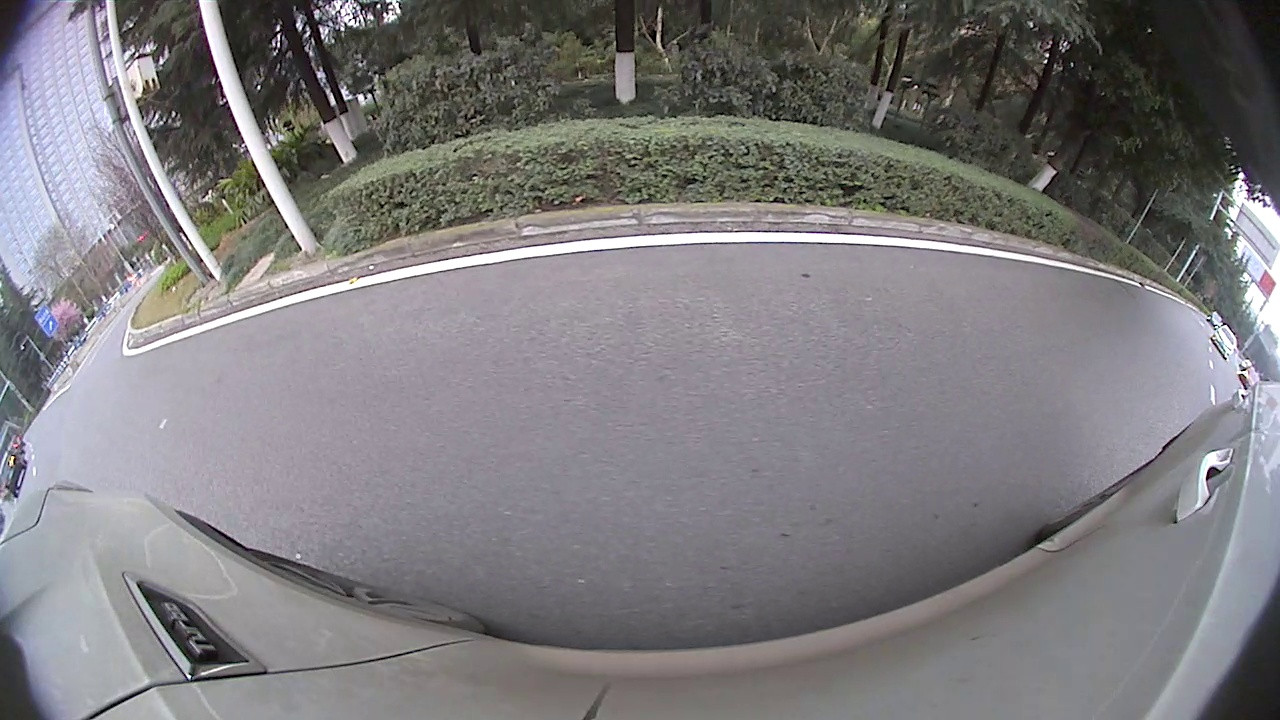bus: (824, 122, 1171, 229)
car: (1, 179, 389, 469), (836, 149, 1196, 363), (528, 93, 824, 282), (1182, 289, 1253, 371), (1230, 337, 1279, 390)
front: (326, 219, 383, 289), (826, 199, 881, 261)
rear: (54, 351, 186, 464), (1008, 254, 1090, 350)
